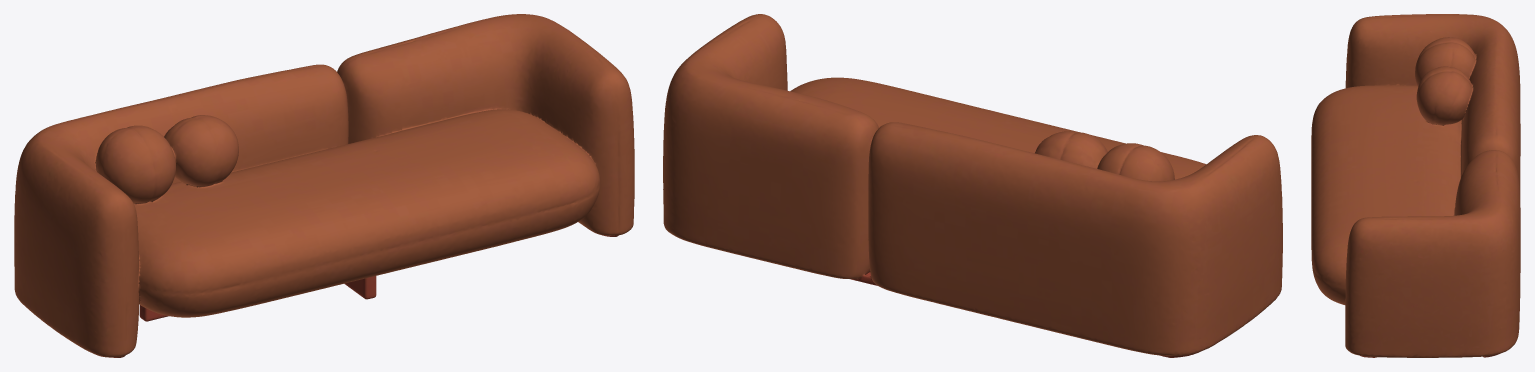
Rendered from Contemporary Rounded Asymmetrical Chaise Sofa [l87Axw].glb.
The picture shows the model from 3 angles, left to right: view 1: azimuth 30°, elevation 25°; view 2: azimuth 150°, elevation 25°; view 3: azimuth 270°, elevation 25°; orthographic projection. The views are drawn at different scales.
Visible parts, largest first — view 1: world; view 2: world; view 3: world.
Part boxes in pixels (left/top/right/bottom): world: left=14, top=14, right=634, bottom=357; world: left=663, top=14, right=1282, bottom=357; world: left=1311, top=14, right=1520, bottom=357.
Size of the model in its own units: 1 by 0.2924 by 0.3983.
1 material, 1 textured.
